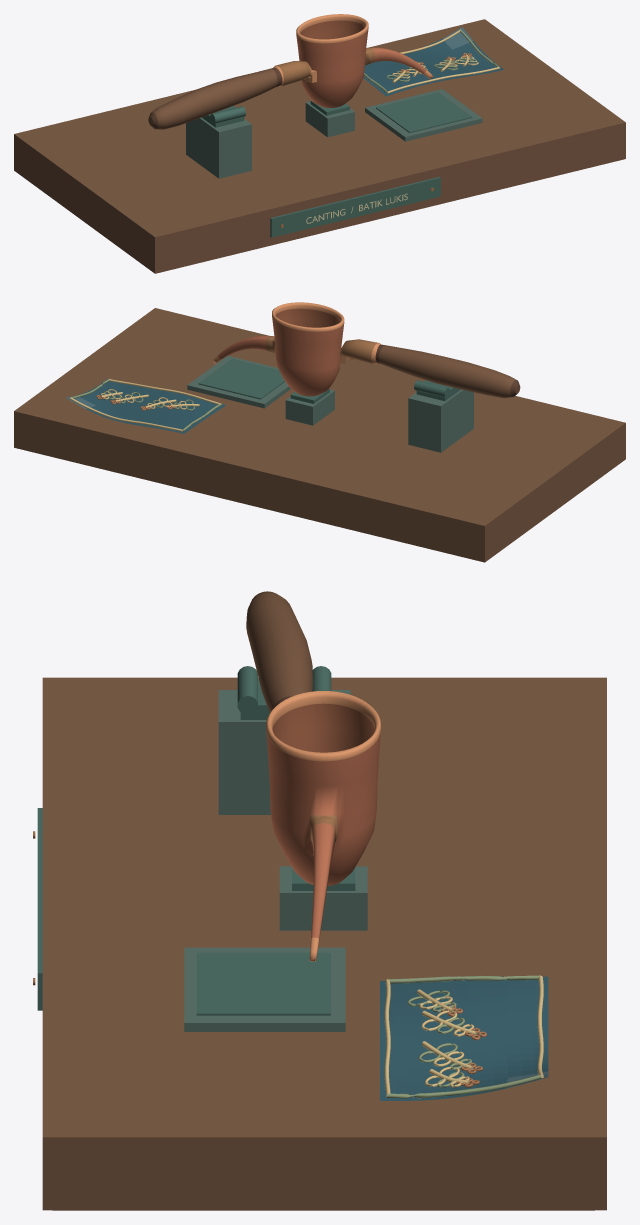
Rendered from batik-canting-tool-rest.glb.
3 renders of one model, top to bottom at view 1: azimuth 30°, elevation 25°; view 2: azimuth 150°, elevation 25°; view 3: azimuth 270°, elevation 25°, orthographic. The views are drawn at different scales.
Visible parts, largest first — view 1: Thin layered original presentation plank, CANTING_CONNECTED_COPPER_BOWL_AND_SPOUT, Small folded indigo swatch, Offset turned wooden canting handle, Original exhibit name plate, Handle rest pedestal, Inner shadow of the dry drip insert, Individual shallowed stone insert under tip, Low reservoir support block, Copper offset handle ferrule with shoulder, Short rounded U cradle shoulder; view 2: Thin layered original presentation plank, CANTING_CONNECTED_COPPER_BOWL_AND_SPOUT, Small folded indigo swatch, Offset turned wooden canting handle, Handle rest pedestal, Inner shadow of the dry drip insert, Individual shallowed stone insert under tip, Low reservoir support block, Copper offset handle ferrule with shoulder, Short rounded U cradle shoulder.001; view 3: Thin layered original presentation plank, CANTING_CONNECTED_COPPER_BOWL_AND_SPOUT, Small folded indigo swatch, Inner shadow of the dry drip insert, Handle rest pedestal, Offset turned wooden canting handle, Individual shallowed stone insert under tip, Low reservoir support block, Original exhibit name plate, Short rounded U cradle shoulder.
Boxes of the visible parts, left/top/right/bottom form: Thin layered original presentation plank: left=14, top=19, right=625, bottom=273; CANTING_CONNECTED_COPPER_BOWL_AND_SPOUT: left=296, top=14, right=433, bottom=107; Small folded indigo swatch: left=363, top=27, right=504, bottom=96; Offset turned wooden canting handle: left=148, top=68, right=282, bottom=129; Original exhibit name plate: left=270, top=176, right=440, bottom=237; Handle rest pedestal: left=186, top=117, right=251, bottom=178; Inner shadow of the dry drip insert: left=376, top=92, right=472, bottom=132; Individual shallowed stone insert under tip: left=365, top=89, right=482, bottom=141; Low reservoir support block: left=305, top=101, right=354, bottom=137; Copper offset handle ferrule with shoulder: left=273, top=61, right=312, bottom=86; Short rounded U cradle shoulder: left=210, top=106, right=245, bottom=123; Thin layered original presentation plank: left=14, top=308, right=625, bottom=562; CANTING_CONNECTED_COPPER_BOWL_AND_SPOUT: left=212, top=302, right=344, bottom=396; Small folded indigo swatch: left=66, top=378, right=225, bottom=433; Offset turned wooden canting handle: left=375, top=344, right=520, bottom=398; Handle rest pedestal: left=408, top=389, right=473, bottom=452; Inner shadow of the dry drip insert: left=198, top=358, right=284, bottom=399; Individual shallowed stone insert under tip: left=187, top=356, right=290, bottom=408; Low reservoir support block: left=285, top=389, right=334, bottom=425; Copper offset handle ferrule with shoulder: left=340, top=339, right=380, bottom=364; Short rounded U cradle shoulder.001: left=414, top=380, right=449, bottom=397; Thin layered original presentation plank: left=42, top=677, right=606, bottom=1210; CANTING_CONNECTED_COPPER_BOWL_AND_SPOUT: left=266, top=691, right=380, bottom=961; Small folded indigo swatch: left=380, top=976, right=548, bottom=1100; Inner shadow of the dry drip insert: left=196, top=952, right=330, bottom=1015; Handle rest pedestal: left=218, top=690, right=350, bottom=814; Offset turned wooden canting handle: left=246, top=591, right=312, bottom=712; Individual shallowed stone insert under tip: left=184, top=947, right=345, bottom=1031; Low reservoir support block: left=279, top=866, right=367, bottom=930; Original exhibit name plate: left=37, top=808, right=42, bottom=1010; Short rounded U cradle shoulder: left=237, top=666, right=257, bottom=714.
Bounding box in the file's own units: 0.445 × 0.1302 × 0.235.
